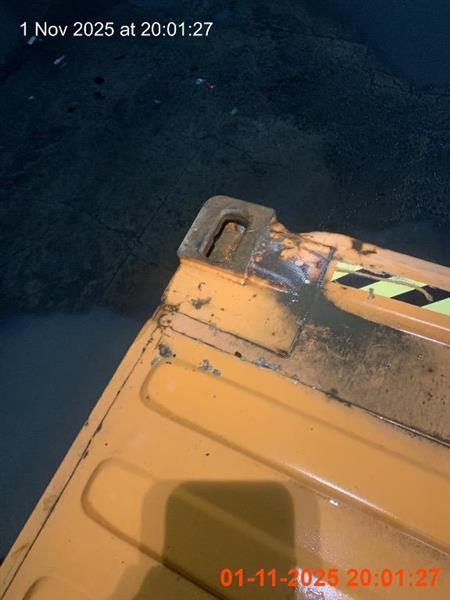bent: (1, 193, 448, 598)
